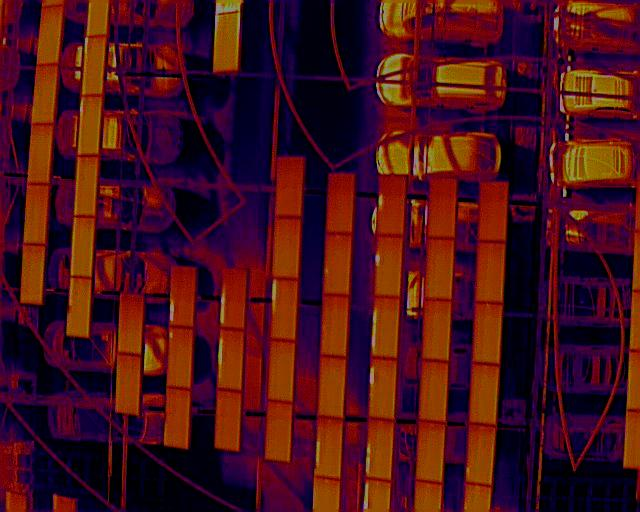Cell: (376, 175, 407, 236), (375, 237, 404, 298), (169, 327, 194, 390)
No-Anomaly: (479, 181, 510, 242), (425, 239, 455, 300), (476, 241, 505, 304), (428, 176, 457, 238), (474, 302, 503, 363), (470, 365, 499, 426), (321, 295, 349, 358), (274, 217, 302, 280), (318, 357, 346, 419), (327, 172, 355, 234), (420, 361, 448, 422), (423, 301, 450, 363), (468, 424, 495, 486), (325, 233, 352, 295), (418, 422, 445, 483), (277, 156, 304, 217), (36, 5, 63, 64), (266, 401, 292, 462), (24, 183, 50, 244), (269, 340, 294, 402), (32, 66, 58, 125), (215, 390, 240, 451), (119, 294, 144, 355), (116, 355, 141, 414), (29, 124, 54, 183), (21, 245, 46, 303), (68, 278, 91, 338), (166, 390, 190, 447), (72, 218, 94, 280), (76, 156, 97, 218)
Unclassified: (366, 419, 394, 480), (370, 360, 397, 422), (272, 280, 299, 342), (373, 297, 400, 359), (316, 419, 343, 480), (221, 269, 248, 329), (218, 330, 244, 391), (82, 36, 108, 96), (171, 267, 196, 328), (214, 14, 240, 72), (79, 98, 104, 155)
